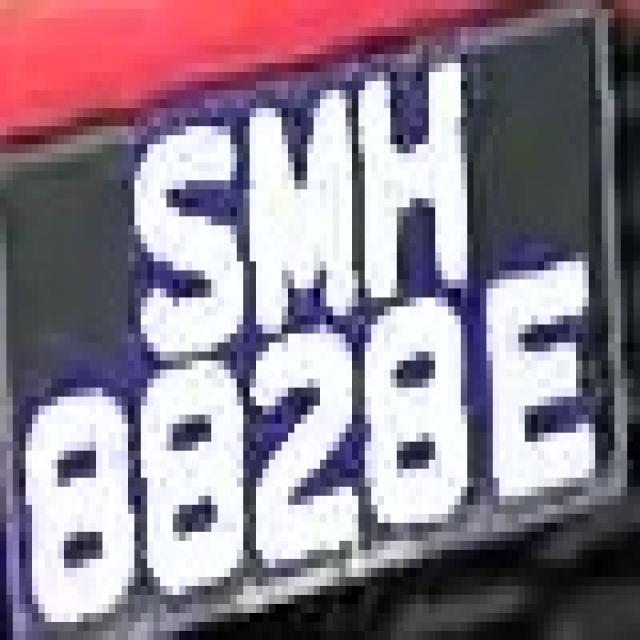2: (230, 306, 378, 586)
8: (121, 342, 262, 595), (358, 279, 468, 586), (19, 361, 128, 631)
E: (467, 243, 602, 541)
H: (346, 45, 480, 316)
M: (224, 99, 365, 334)
S: (122, 99, 243, 343)
